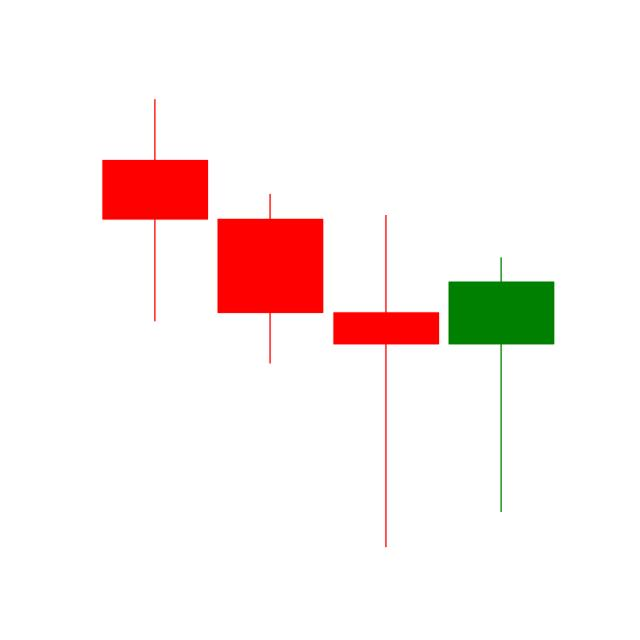Hammer: (444, 252, 558, 518)
Long-Legged Doji: (328, 209, 441, 555)
